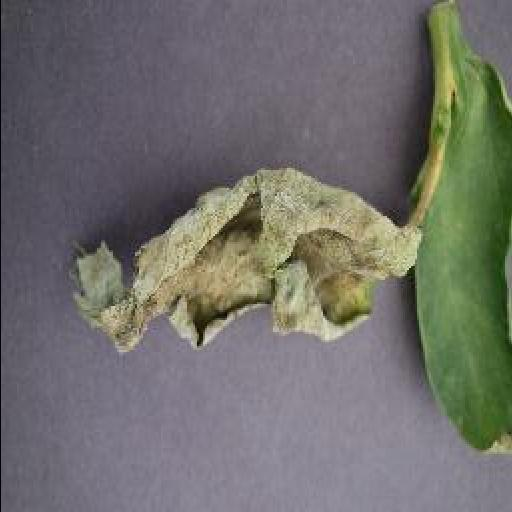disease_tomato: (56, 168, 426, 356)
